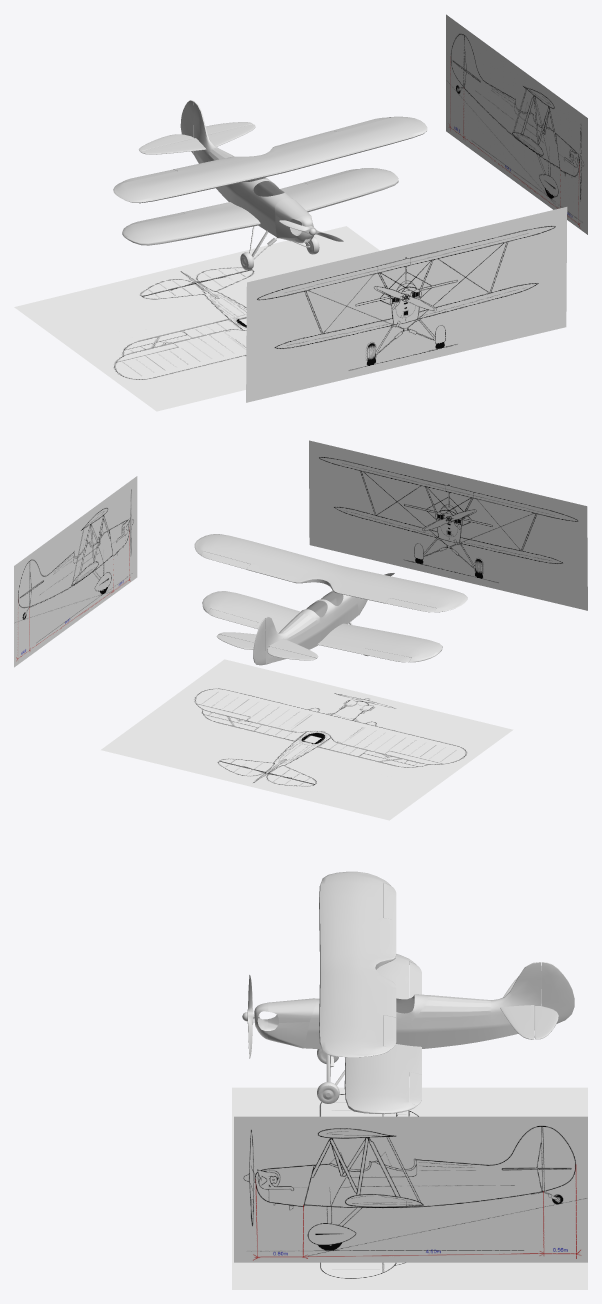
File: Hatz.dae
3 renders of one model, top to bottom at view 1: azimuth 30°, elevation 25°; view 2: azimuth 150°, elevation 25°; view 3: azimuth 270°, elevation 25°, orthographic. The views are drawn at different scales.
Parts seen in each view (by area): view 1: Vue_Face, Vue_Dessus, Vue_Côté, Ailes.1, Neutre.1 (×2), Stabilo.1, Capots_avant.1; view 2: Vue_Dessus, Vue_Face, Vue_Côté, Ailes.1, Neutre.1, Stabilo.1; view 3: Vue_Côté, Ailes.1, Vue_Dessus, Neutre.1 (×2), Capots_avant.1, Stabilo.1.
Part boxes in pixels (x1,y1,x2,y2): Vue_Face: (246,207,567,402); Vue_Dessus: (14,226,379,411); Vue_Côté: (446,14,587,234); Ailes.1: (113,116,427,245); Neutre.1 (×2): (180,100,319,270); Stabilo.1: (139,122,255,154); Capots_avant.1: (275,198,313,243); Vue_Dessus: (101,659,513,820); Vue_Face: (309,440,587,610); Vue_Côté: (14,476,137,667); Ailes.1: (194,534,467,662); Neutre.1: (253,590,359,665); Stabilo.1: (216,632,317,660); Vue_Côté: (234,1116,587,1262); Ailes.1: (319,871,421,1113); Vue_Dessus: (232,1087,587,1289); Neutre.1 (×2): (303,962,574,1103); Capots_avant.1: (254,998,316,1048); Stabilo.1: (500,971,558,1039).
Bounding box in the file's own units: 1166 × 497 × 1076.
Materials: 3 (3 with a texture image).
